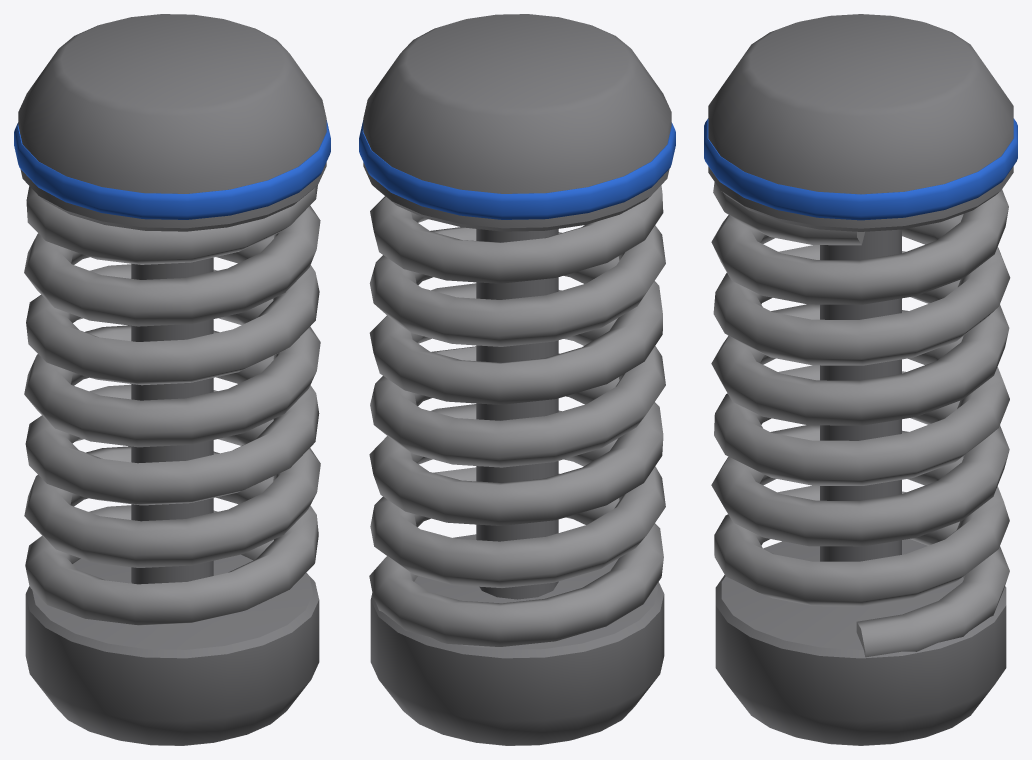
File: Kit_Limb_Spring_L.glb
3 views of the same model, side by side, from view 1: azimuth 30°, elevation 25°; view 2: azimuth 150°, elevation 25°; view 3: azimuth 270°, elevation 25° (orthographic).
Parts seen in each view (by area): view 1: Kit_Limb_Spring_L; view 2: Kit_Limb_Spring_L; view 3: Kit_Limb_Spring_L.
Part boxes in pixels (x1=…): Kit_Limb_Spring_L: x1=14, y1=14, x2=330, y2=745; Kit_Limb_Spring_L: x1=359, y1=14, x2=675, y2=745; Kit_Limb_Spring_L: x1=704, y1=14, x2=1017, y2=745.
Bounding box in the file's own units: 0.1598 × 0.3548 × 0.1582.
